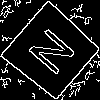N: (26, 26, 85, 84)
